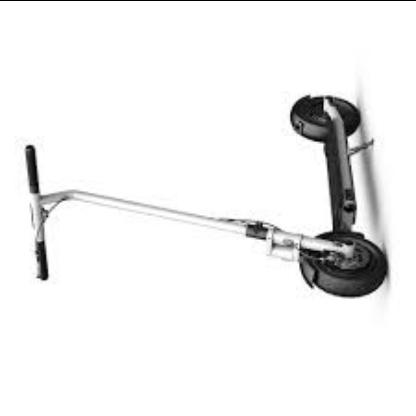bike: (21, 94, 389, 299)
